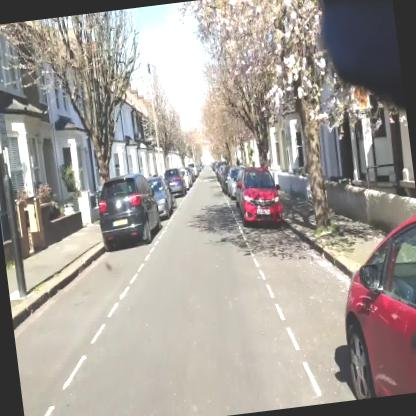car: (95, 172, 162, 250), (235, 164, 284, 230), (148, 174, 174, 221), (162, 167, 188, 200), (224, 164, 246, 200)
